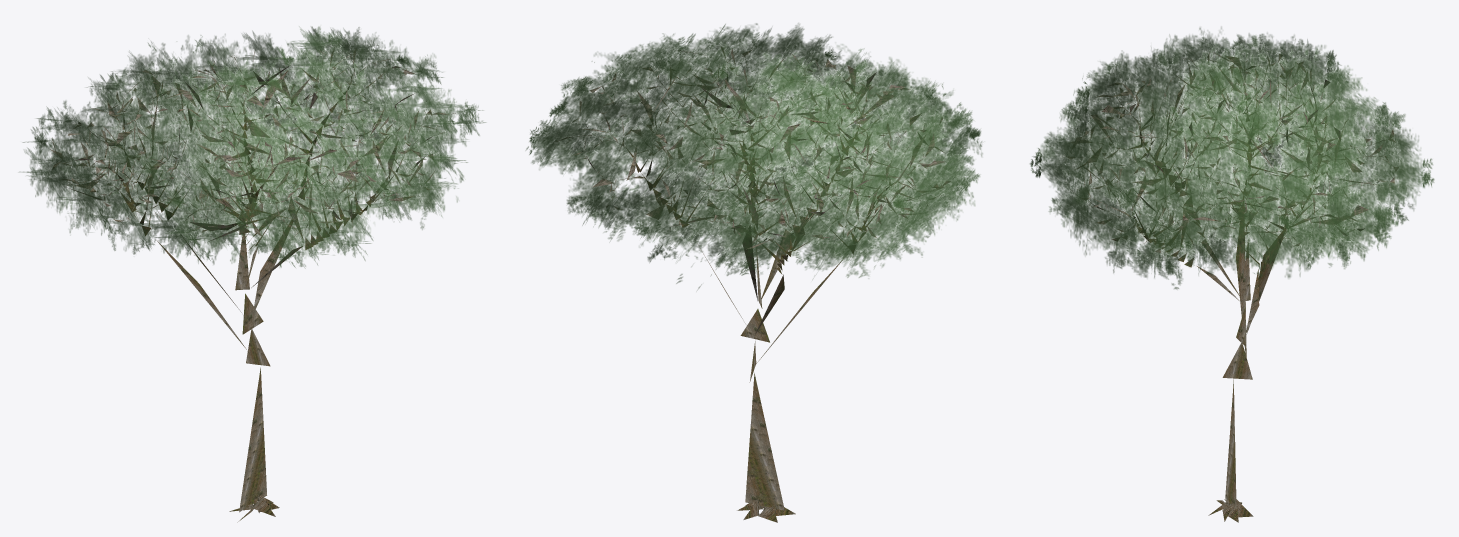
Rendered from world_tree_pine_near.glb.
The picture shows the model from 3 angles, left to right: view 1: azimuth 30°, elevation 25°; view 2: azimuth 150°, elevation 25°; view 3: azimuth 270°, elevation 25°; orthographic projection. The views are drawn at different scales.
Visible parts, largest first — view 1: Canopy, Scaffold; view 2: Canopy, Scaffold; view 3: Canopy, Scaffold.
Boxes of the visible parts, x1,y1,x2,y2 form: Canopy: (22, 26, 485, 268); Scaffold: (50, 48, 455, 522); Canopy: (526, 23, 982, 288); Scaffold: (555, 47, 950, 522); Canopy: (1030, 27, 1434, 289); Scaffold: (1063, 52, 1398, 522).
Size of the model in its own units: 8.92 by 9.23 by 7.99.
Materials: 2 (2 with a texture image).
